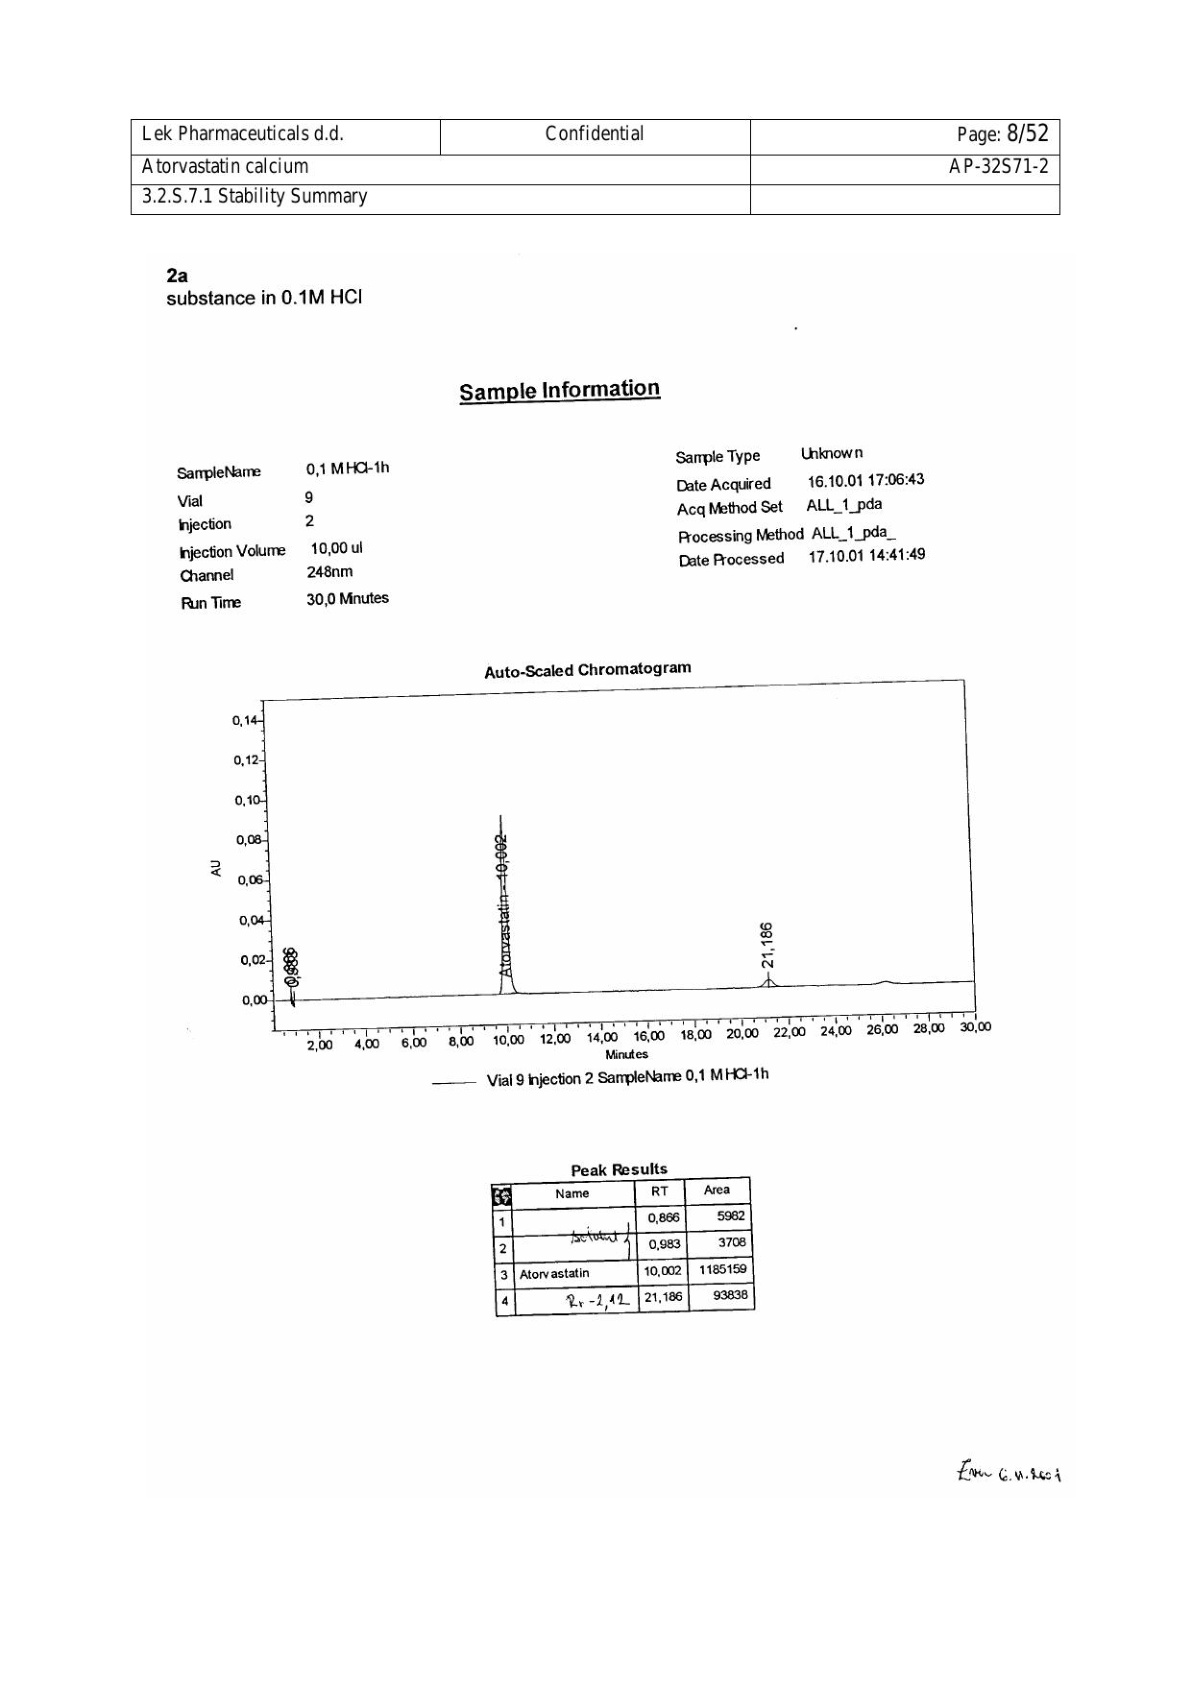full_lined: (490, 1176, 756, 1318)
merged_cells: (130, 119, 1060, 215)
nolines: (175, 445, 928, 615)
